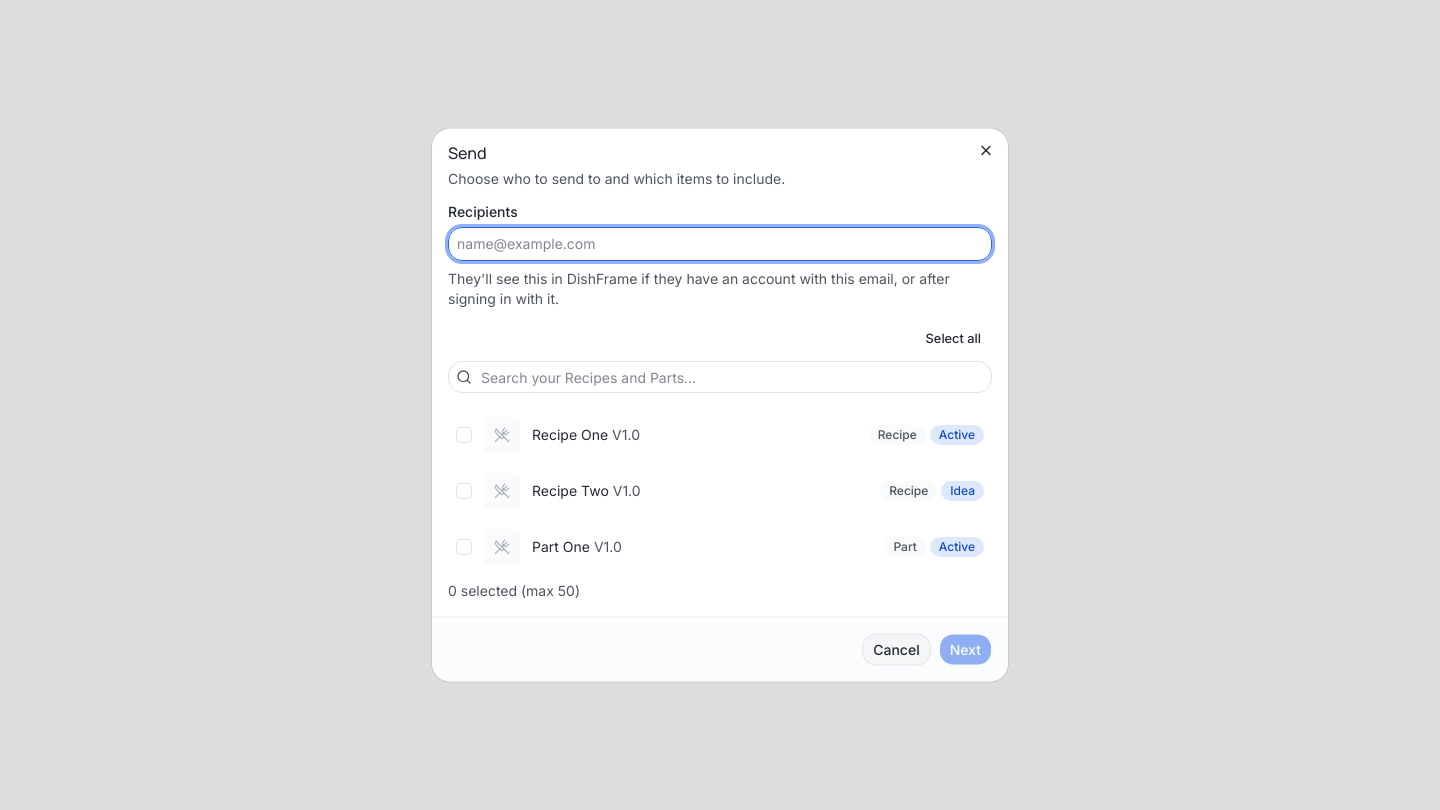
DirectShareCollectionDialog › on a per-recipient failure, keeps only the failed recipient chip so it can be retried
Expected: the text "Recipe One" is shown, [532,426,608,442]
Step 1. Type "ok@example.invalid,bad@example.invalid," into the field labelled "Recipients" → {"x": 720, "y": 244}, box [457,234,983,254]
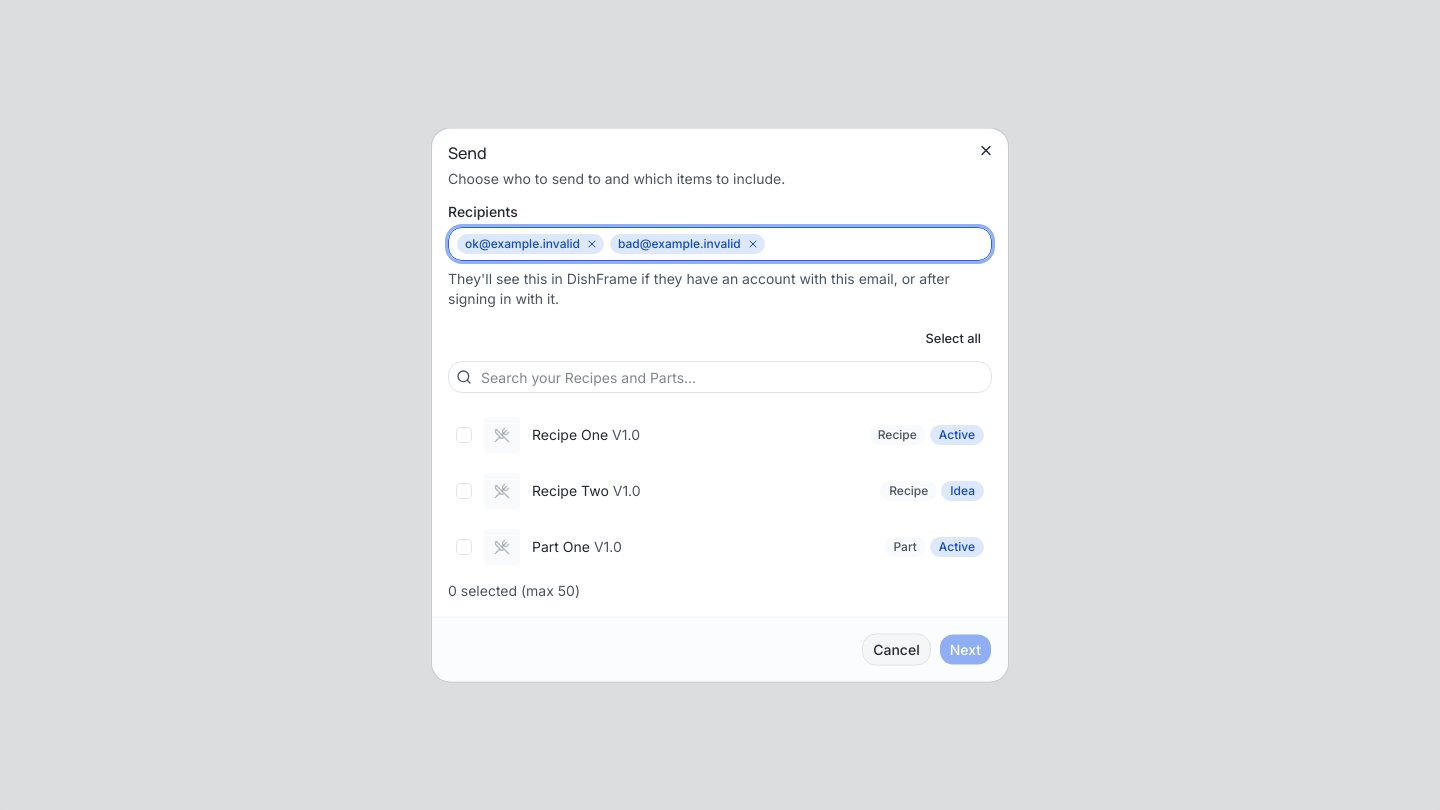
Step 2. Click the checkbox named "Select Recipe One" → {"x": 464, "y": 434}, box [456,426,472,442]
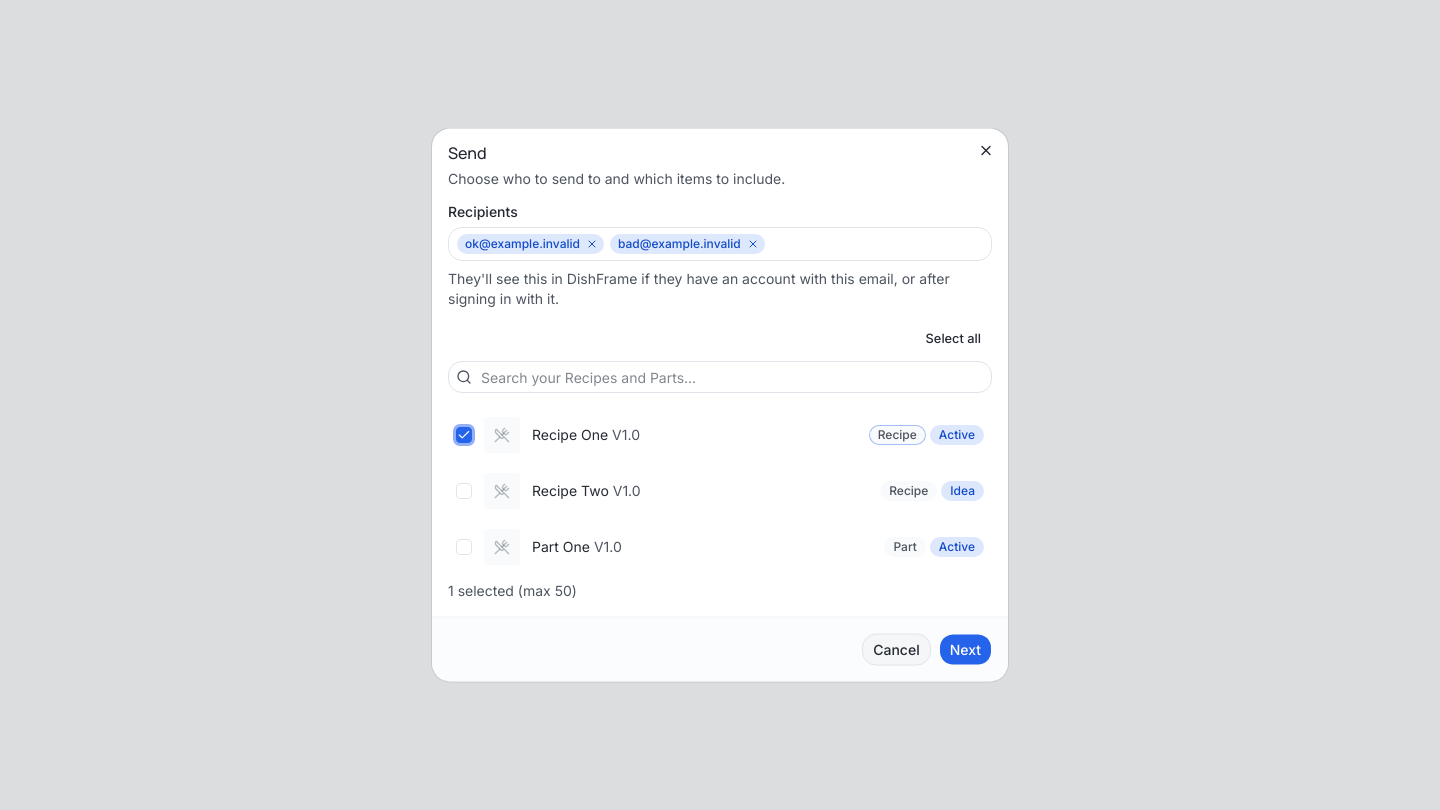
Expected: the button "Next" is enabled
Step 3. Click the button "Next" → {"x": 965, "y": 650}, box [939,634,992,666]
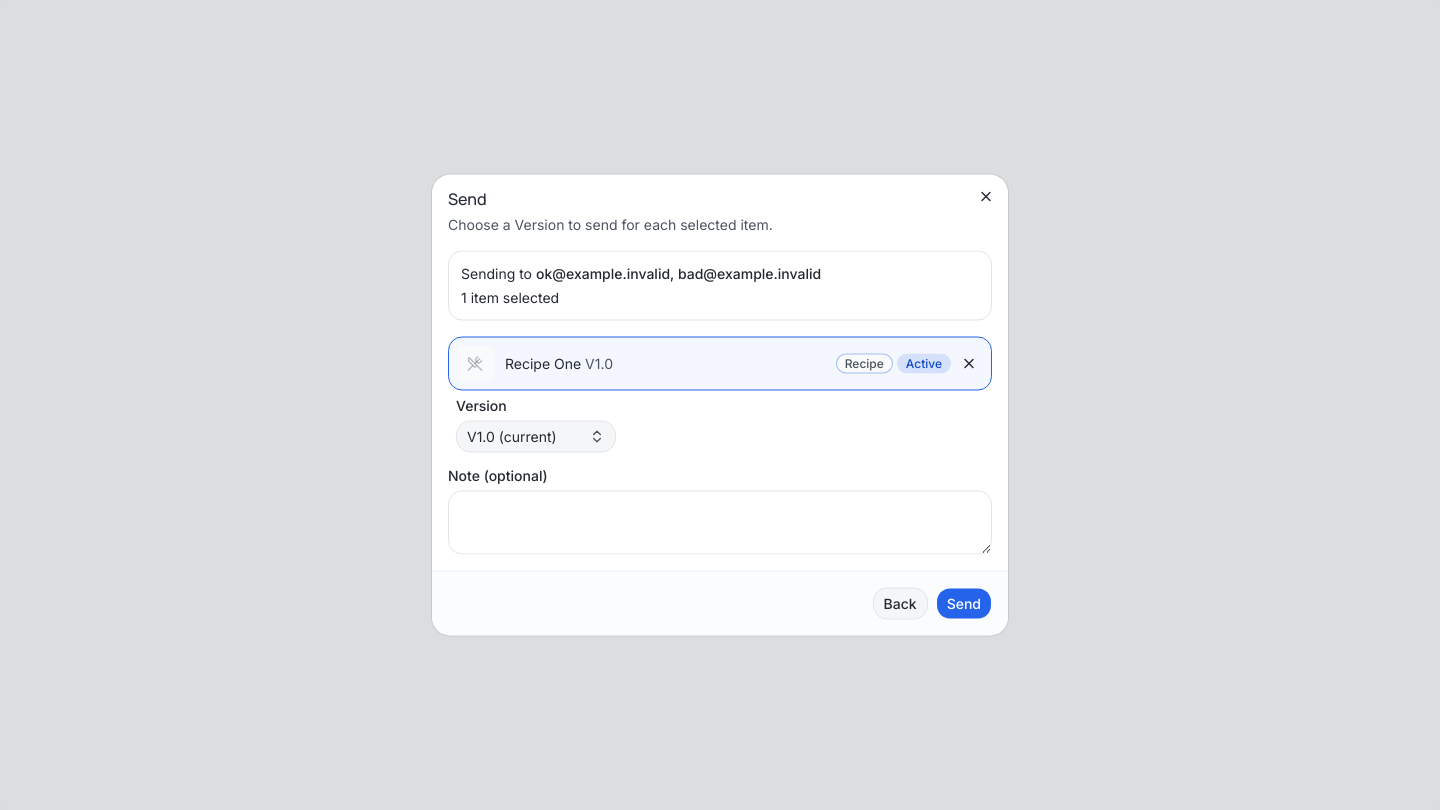
Expected: the dropdown is enabled, [456,420,616,452]
Step 4. Click the button "Send" → {"x": 964, "y": 604}, box [936,588,992,620]
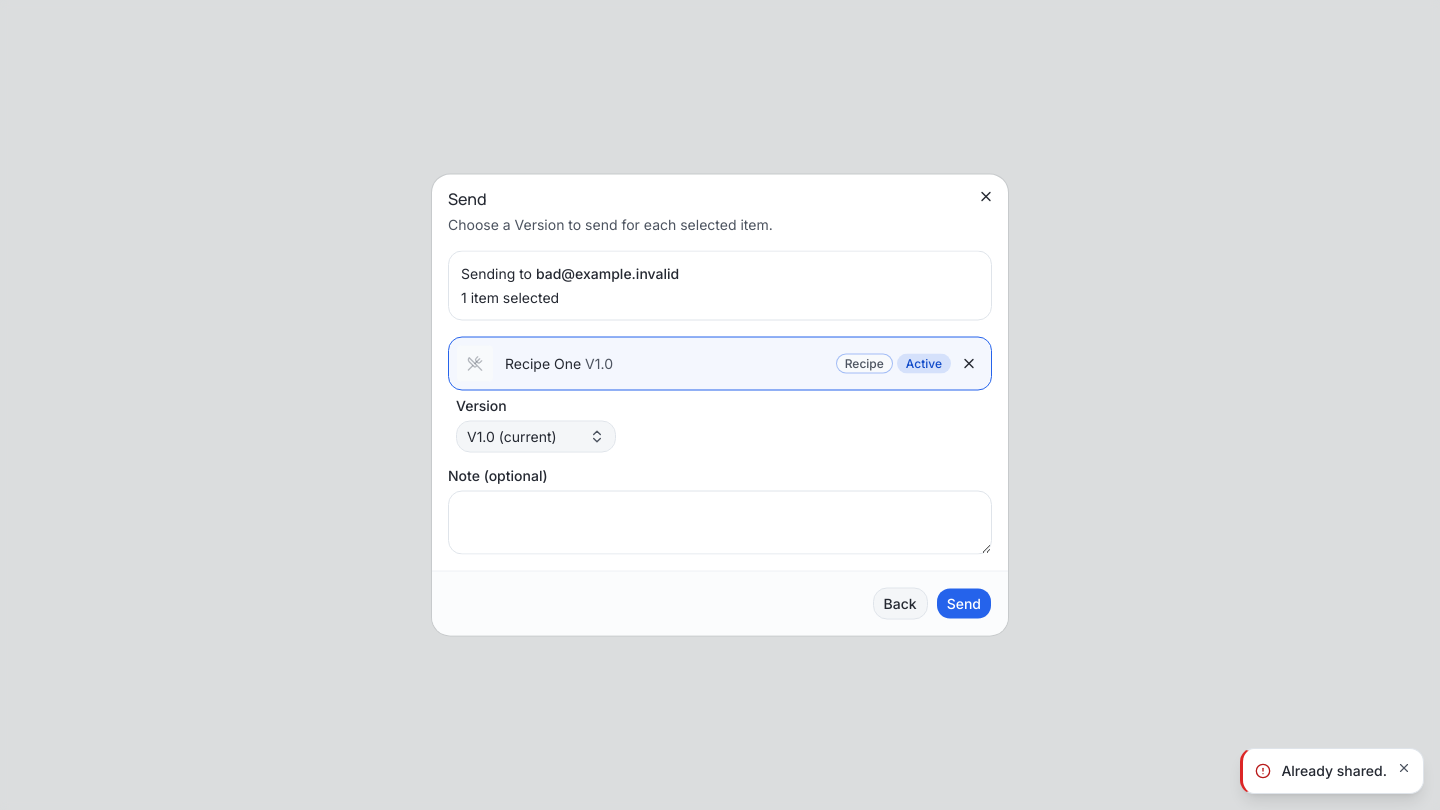
Expected: the text "Already shared." is shown, [1281,761,1387,781]
